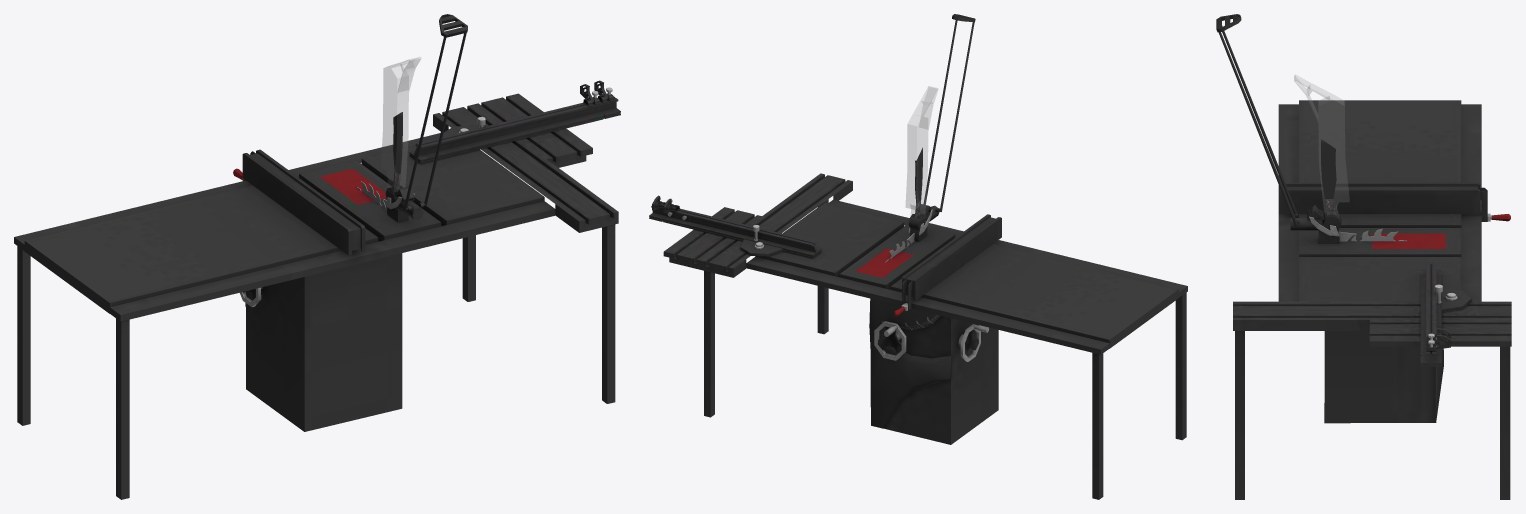
The picture shows the model from 3 angles, left to right: view 1: azimuth 30°, elevation 25°; view 2: azimuth 150°, elevation 25°; view 3: azimuth 270°, elevation 25°; orthographic projection. The views are drawn at different scales.
Visible parts, largest first — view 1: polySurface8_57, polySurface1_51, polySurface7_56, polySurface3_53, pCube6_13, polySurface6_55, pCube29_32, pCube12_20, pCube11_19, pCube13_21, pCube10_18, pCube27_31; view 2: polySurface8_57, polySurface1_51, polySurface7_56, polySurface3_53, polySurface2_52, pCube6_13, polySurface6_55, pCube29_32, pCube13_21, pCube12_20, pCube10_18, pCube11_19; view 3: polySurface8_57, polySurface3_53, polySurface1_51, polySurface7_56, pCube6_13, pCube29_32, pCube10_18, pCube11_19, polySurface6_55, pCube27_31, pCylinder24_48, pCylinder25_49 (+3 smaller).
Part boxes in pixels (bbox=[...]): polySurface8_57: bbox=[24, 145, 544, 313]; polySurface1_51: bbox=[246, 253, 402, 431]; polySurface7_56: bbox=[14, 133, 555, 321]; polySurface3_53: bbox=[433, 93, 618, 232]; pCube6_13: bbox=[242, 149, 365, 255]; polySurface6_55: bbox=[409, 102, 603, 163]; pCube29_32: bbox=[381, 57, 421, 194]; pCube12_20: bbox=[116, 318, 129, 499]; pCube11_19: bbox=[602, 224, 615, 403]; pCube13_21: bbox=[17, 246, 30, 425]; pCube10_18: bbox=[462, 235, 475, 301]; pCube27_31: bbox=[393, 112, 402, 190]; polySurface8_57: bbox=[755, 202, 1178, 348]; polySurface1_51: bbox=[883, 316, 998, 444]; polySurface7_56: bbox=[746, 199, 1187, 354]; polySurface3_53: bbox=[663, 173, 852, 277]; polySurface2_52: bbox=[869, 298, 950, 428]; pCube6_13: bbox=[902, 214, 1001, 300]; polySurface6_55: bbox=[663, 208, 821, 258]; pCube29_32: bbox=[906, 86, 937, 221]; pCube13_21: bbox=[1092, 353, 1103, 499]; pCube12_20: bbox=[1175, 292, 1186, 440]; pCube10_18: bbox=[704, 271, 714, 417]; pCube11_19: bbox=[817, 199, 828, 334]; polySurface8_57: bbox=[1299, 100, 1461, 301]; polySurface3_53: bbox=[1233, 301, 1511, 346]; polySurface1_51: bbox=[1324, 331, 1435, 423]; polySurface7_56: bbox=[1278, 104, 1481, 301]; pCube6_13: bbox=[1278, 182, 1480, 214]; pCube29_32: bbox=[1294, 75, 1349, 218]; pCube10_18: bbox=[1500, 346, 1510, 499]; pCube11_19: bbox=[1235, 331, 1244, 499]; polySurface6_55: bbox=[1420, 262, 1441, 355]; pCube27_31: bbox=[1321, 139, 1336, 215]; pCylinder24_48: bbox=[1218, 32, 1297, 225]; pCylinder25_49: bbox=[1222, 25, 1297, 214].
Bounding box in the file's own units: 2.36 × 1.67 × 1.1.
2 materials, 1 textured.
